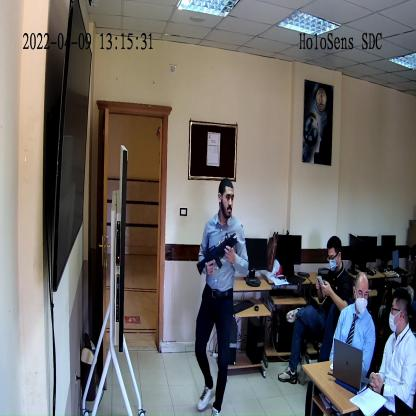handgun: (196, 229, 235, 277)
